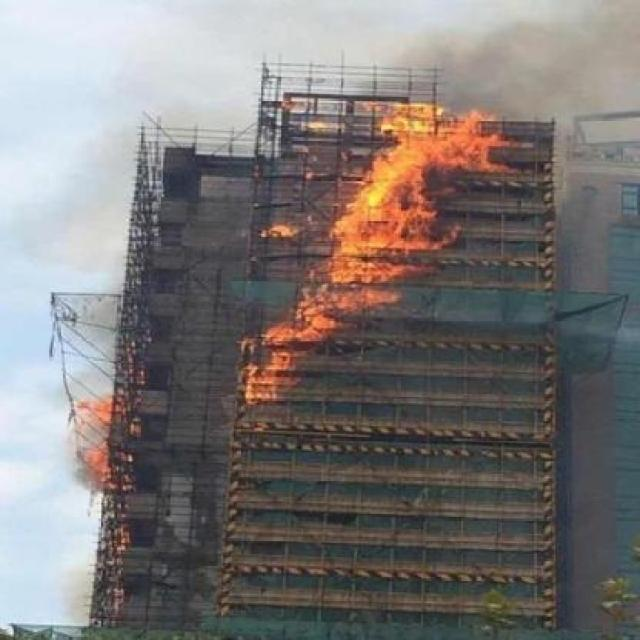Fire: (247, 87, 496, 428), (70, 372, 137, 494)
